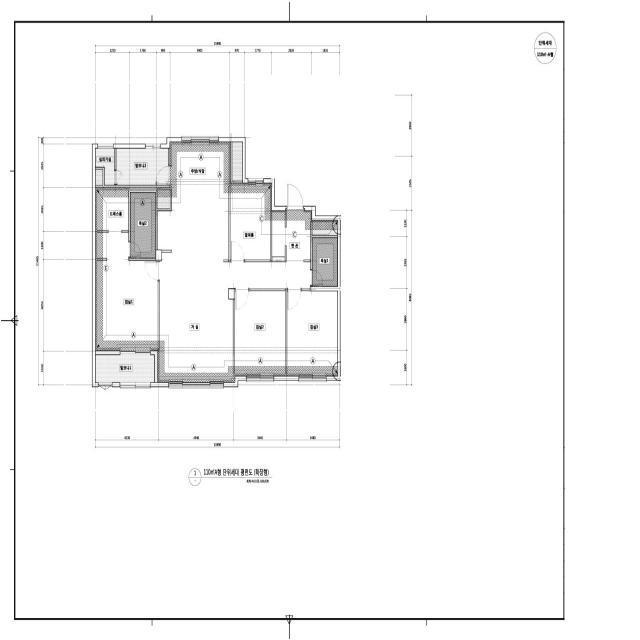space_balconi: (95, 353, 337, 382), (116, 142, 230, 185), (232, 183, 272, 208)
space_bedroom: (95, 233, 158, 350), (287, 291, 338, 350), (235, 291, 285, 350)
space_dressroom: (95, 188, 128, 230)
space_front: (272, 208, 312, 262)
space_kitchen: (157, 182, 230, 262)
space_living_room: (159, 261, 310, 350)
space_other: (230, 211, 270, 259), (312, 220, 338, 235), (232, 142, 242, 181), (157, 187, 170, 209), (95, 169, 103, 185)
space_outdoor_room: (95, 148, 114, 185)
space_toilet: (130, 192, 156, 258), (312, 238, 338, 287)
